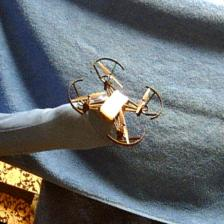drone: (66, 55, 162, 147)
